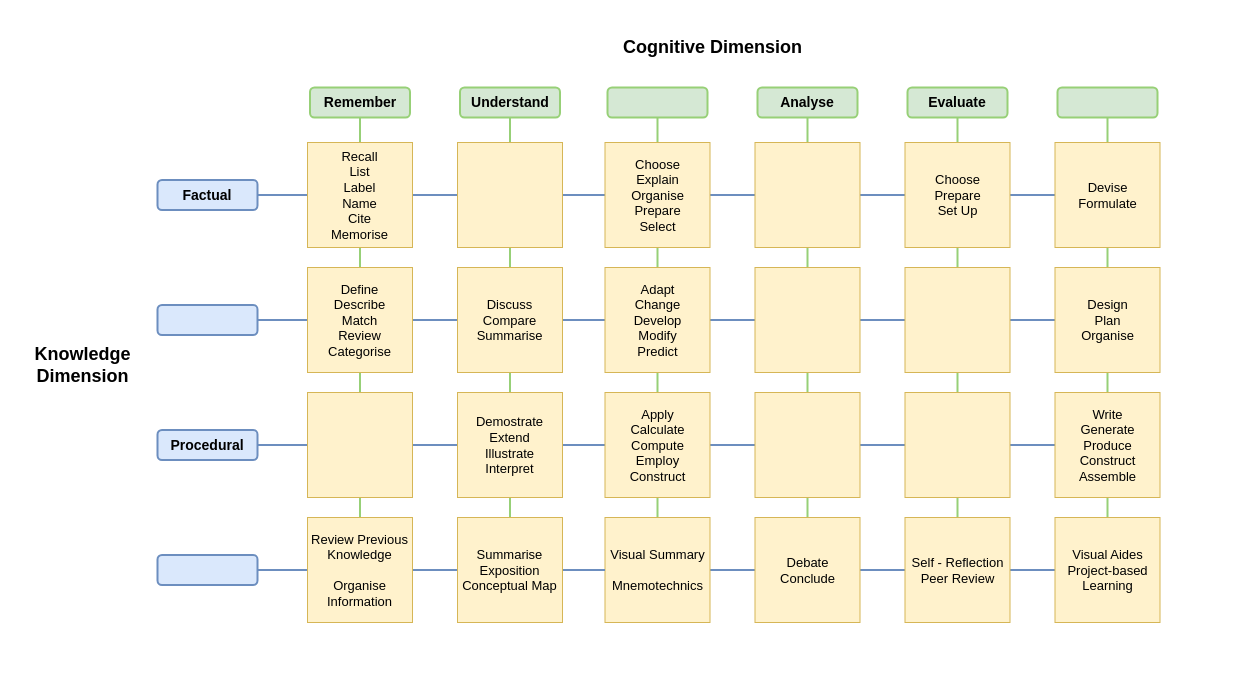
Image size: 1234x674. Some labels were removed from this diagram. The shapes that lost their labels are listed below. From the top down, each one's centre as x and y in pixels, then its label:
(x=657, y=102): Apply
(x=1107, y=102): Create
(x=509, y=195): Associate Classify Explain Identify Recognise
(x=807, y=195): Break Down Correlate Detect Differentiate
(x=207, y=320): Conceptual
(x=807, y=319): Compare Question Point Out
(x=957, y=319): Appaise Criticise Estimate Judge
(x=359, y=445): Reproduce Solve Observe Decide Use
(x=807, y=445): Categorise Classify Deduce Test
(x=957, y=445): Argue Defend Manage
(x=207, y=570): Metacognitive
